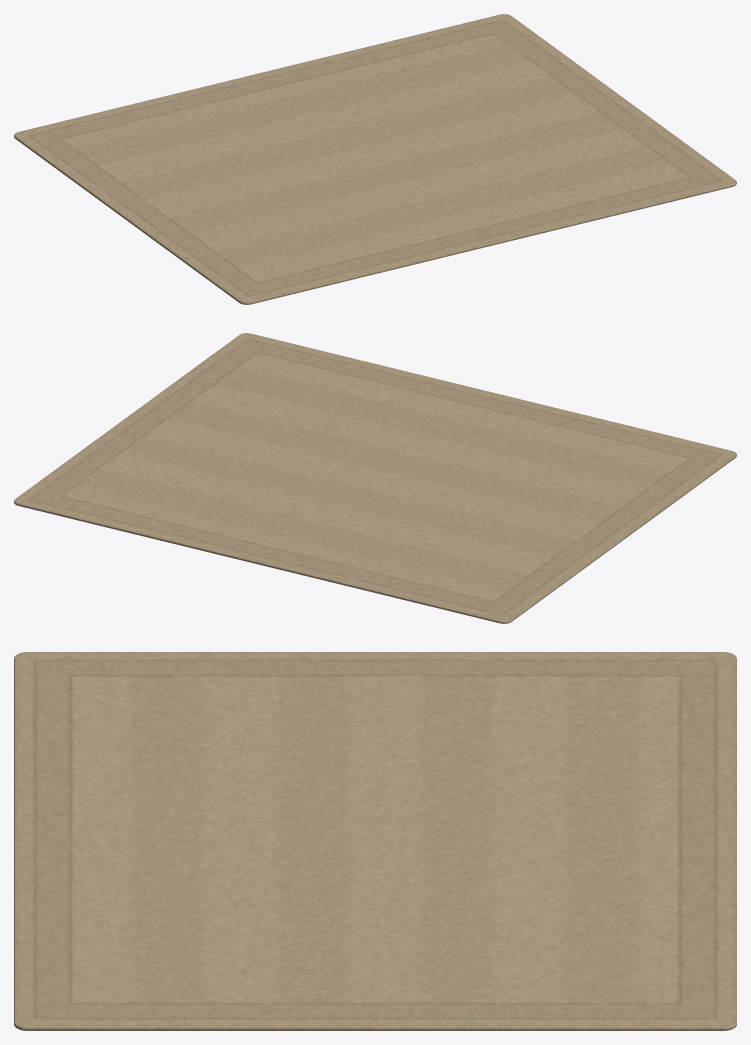
File: bedroom_rug.gltf
3 views of the same model, one above another, from view 1: azimuth 30°, elevation 25°; view 2: azimuth 150°, elevation 25°; view 3: azimuth 270°, elevation 25° (orthographic). The views are drawn at different scales.
Parts seen in each view (by area): view 1: BedroomRug_Body; view 2: BedroomRug_Body; view 3: BedroomRug_Body.
Boxes of the visible parts, box(x1,y1,x2,y2) form: BedroomRug_Body: box(14, 14, 736, 304); BedroomRug_Body: box(14, 333, 736, 623); BedroomRug_Body: box(14, 652, 736, 1030).
Size of the model in its own units: 3.2 by 0.015 by 2.6.
Materials: 1 (1 with a texture image).
